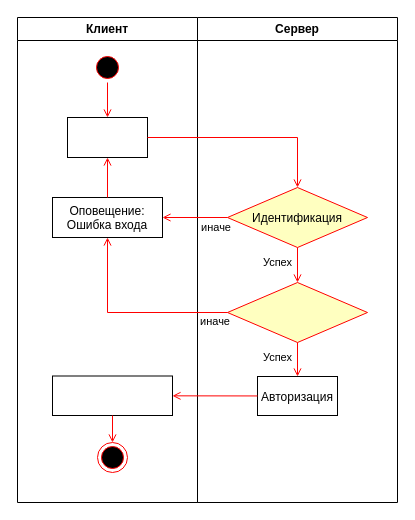
This 415x520 diagram has some shape labels left out. The centre of each missing label's shape, as x and y in pixels:
Аутентификация: the point at 297,312
Вход: the point at 107,137
Предоставление доступа: the point at 112,395
